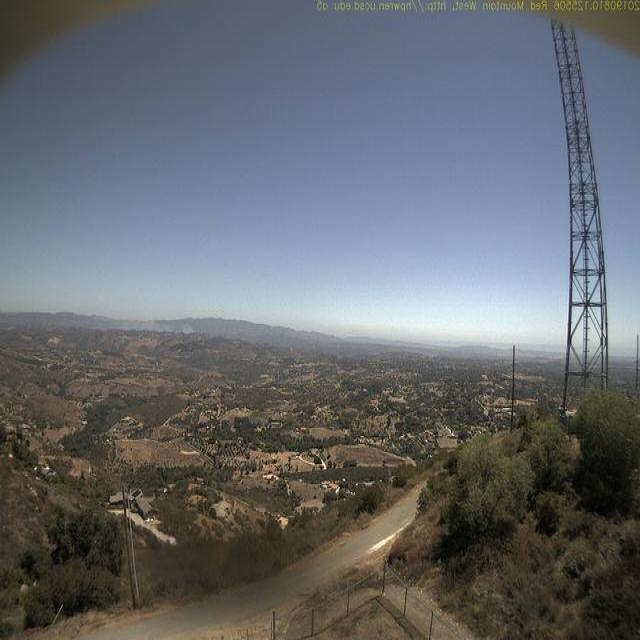Smoke: (73, 309, 201, 335)
